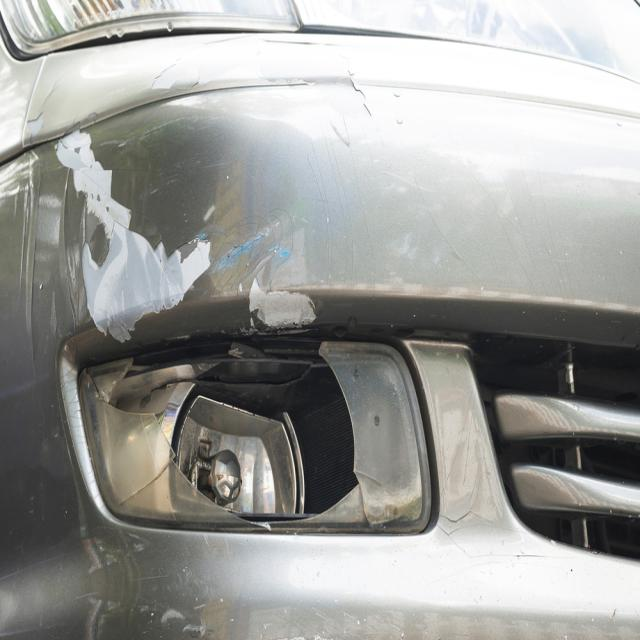lamp broken: (76, 333, 437, 537)
scratch: (57, 119, 331, 346)
